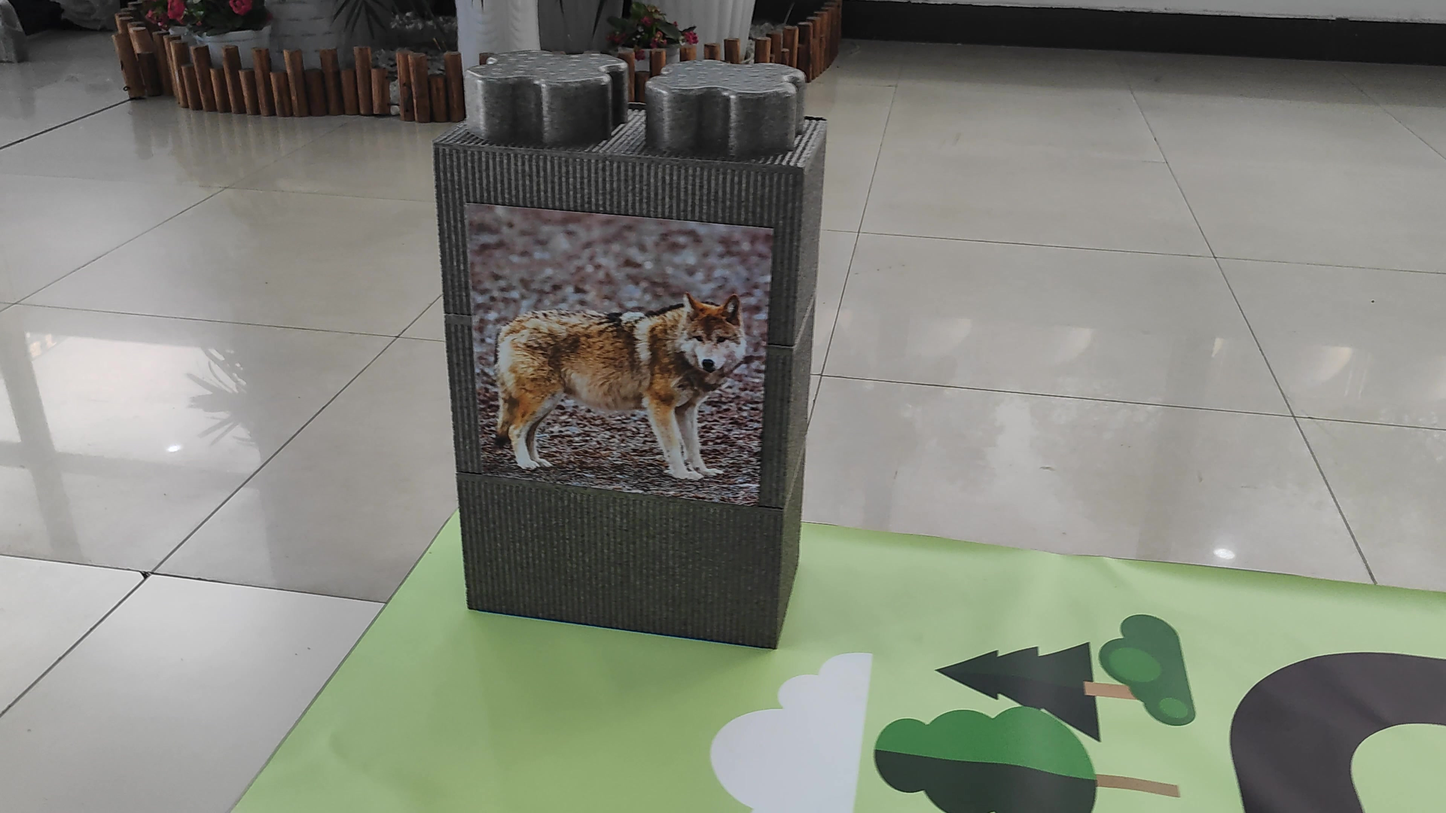wolf: (476, 277, 754, 506)
